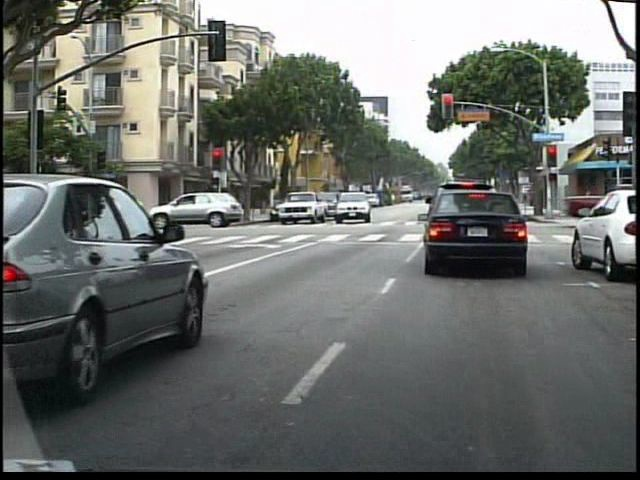person: (103, 191, 121, 234), (131, 192, 132, 233)
